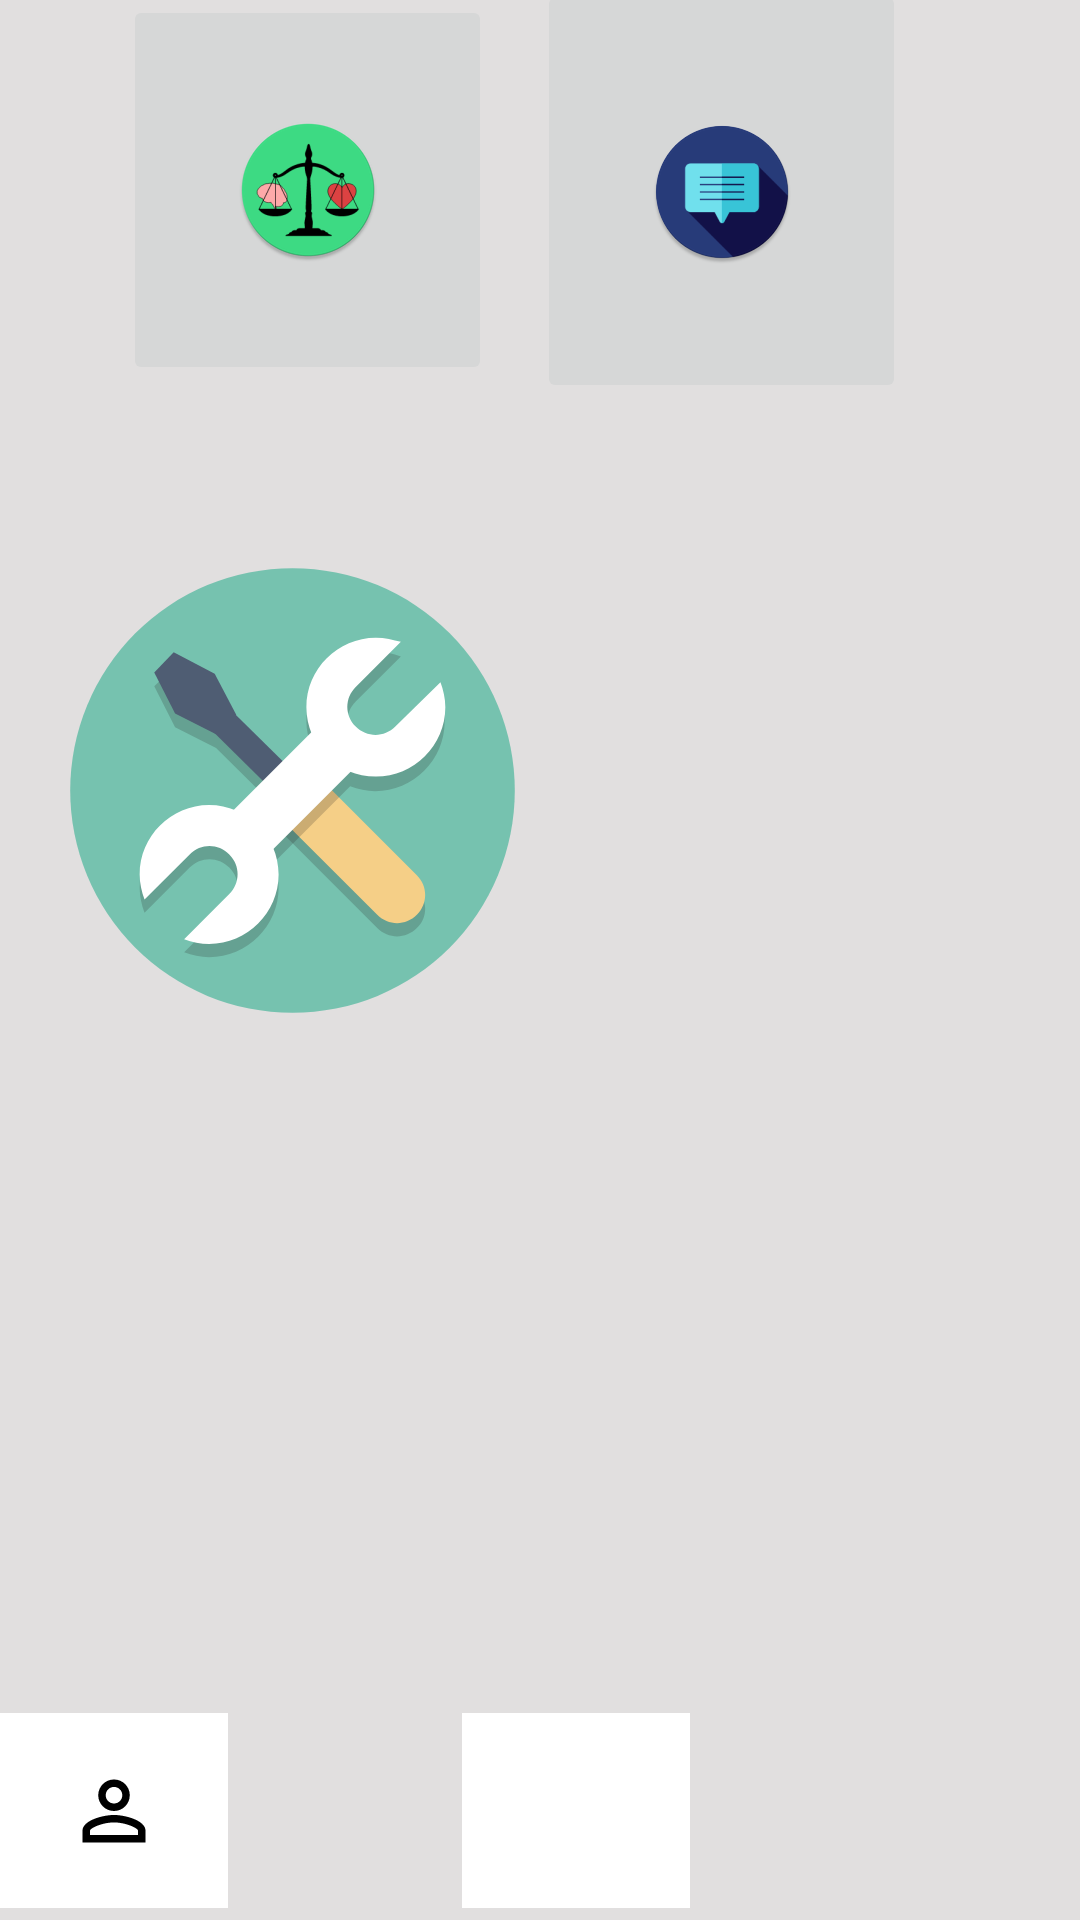

Icon click points for this 1080px×1920px phone screenshot, format (x,y):
forum round: (722,194)
rights round: (308,191)
